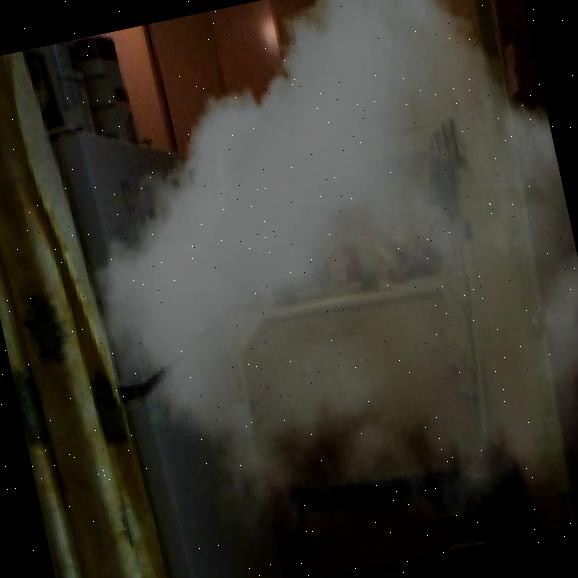smoke: (42, 0, 578, 578)
